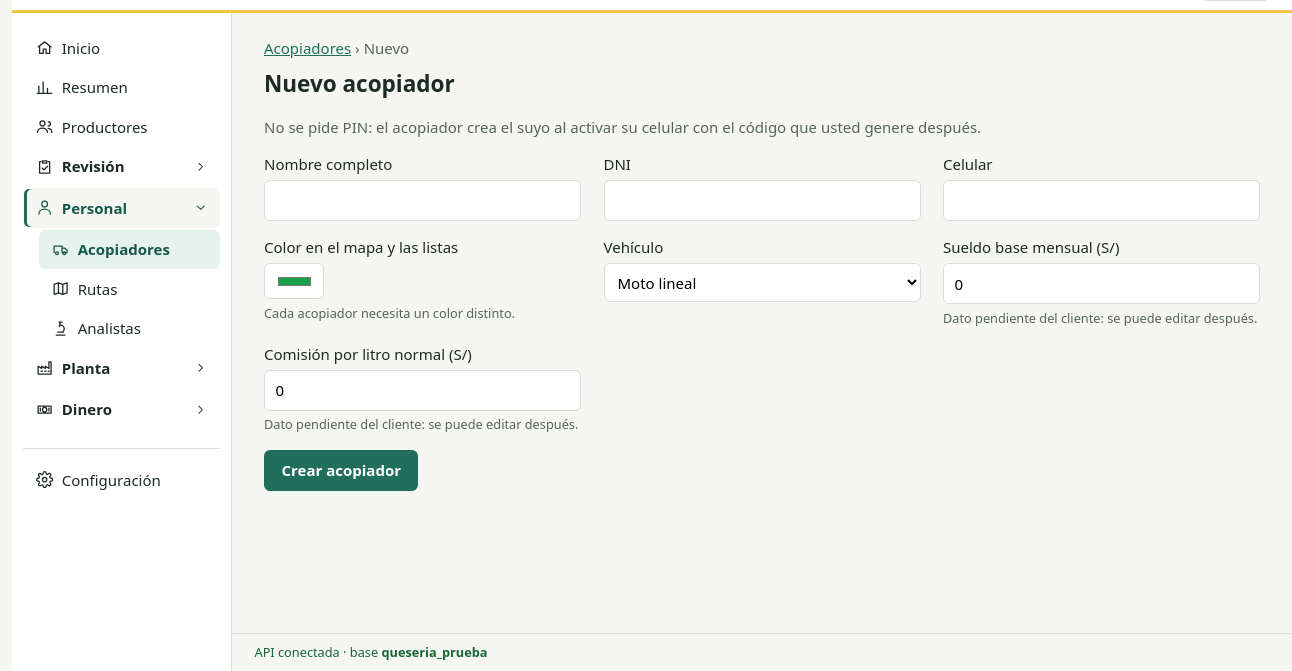
nuevo acopiador › 422 del servidor: el mensaje va bajo su campo
Type "Ana Quispe Flores" into the field labelled "Nombre completo" at (422, 201), box 264,180 -> 581,221
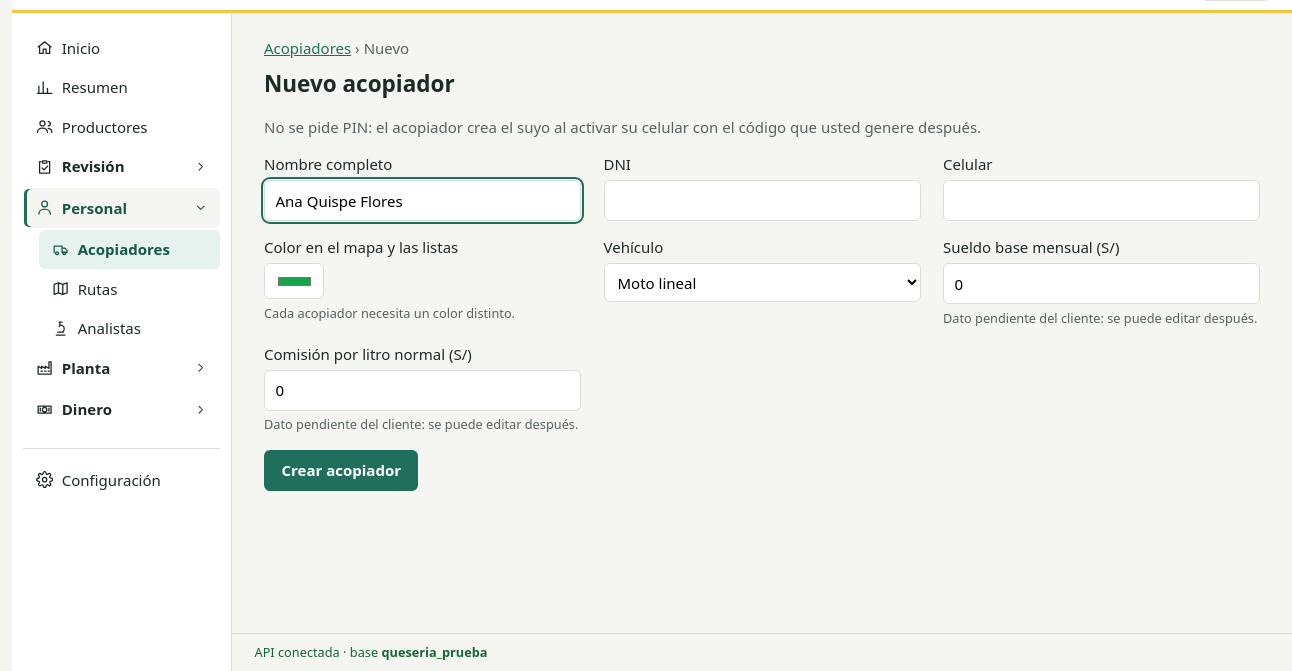
Type "45678912" into the field labelled "DNI" at (762, 201), box 604,180 -> 920,221
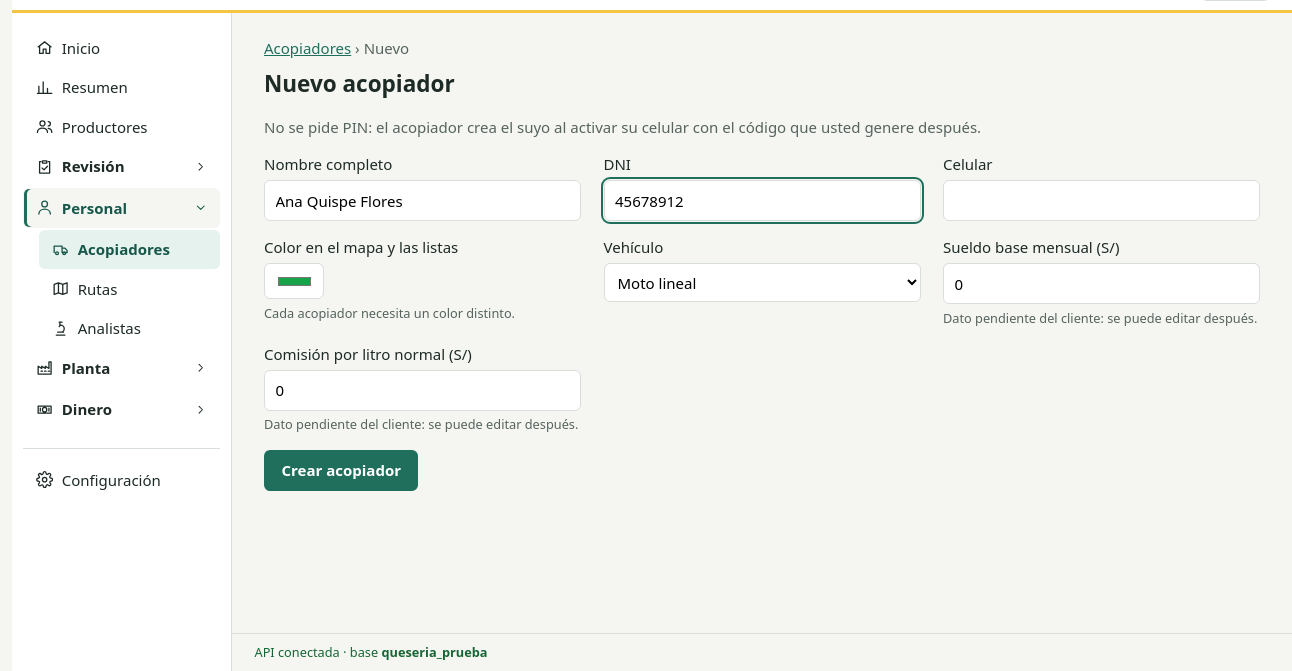
Type "987654321" into the field labelled "Celular" at (1102, 201), box 943,180 -> 1260,221
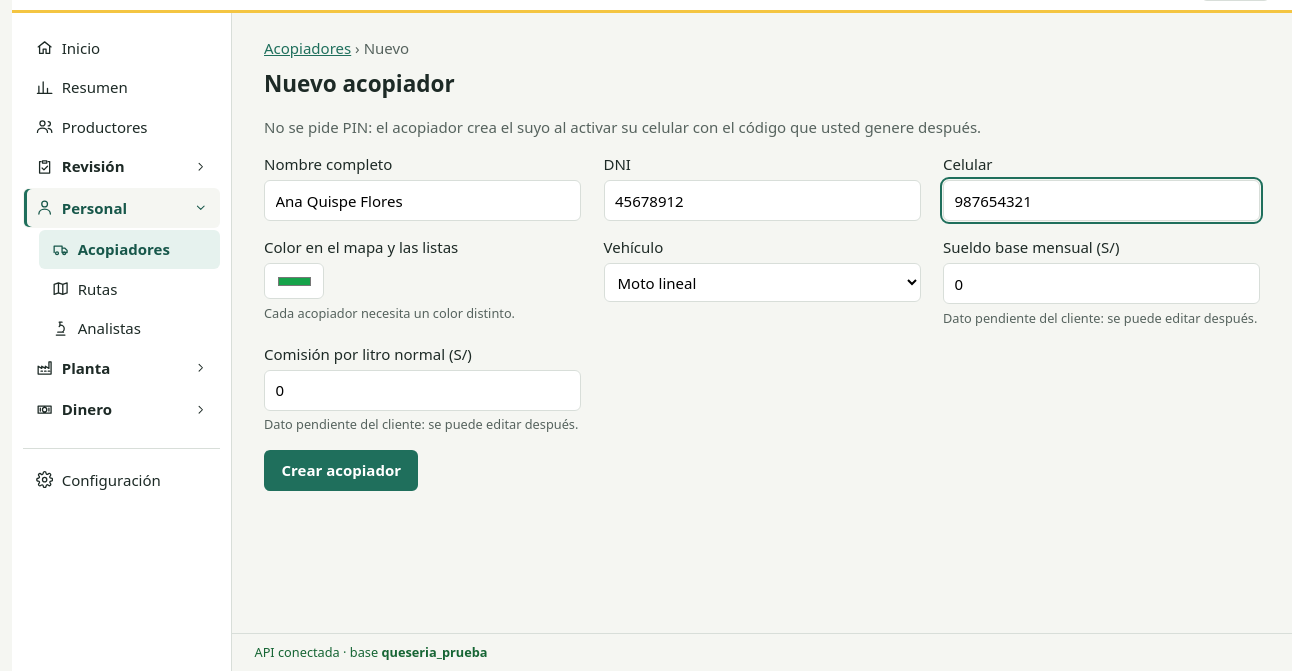
Click the button "Crear acopiador" at (341, 470), box 264,450 -> 418,490
(page scrolled)
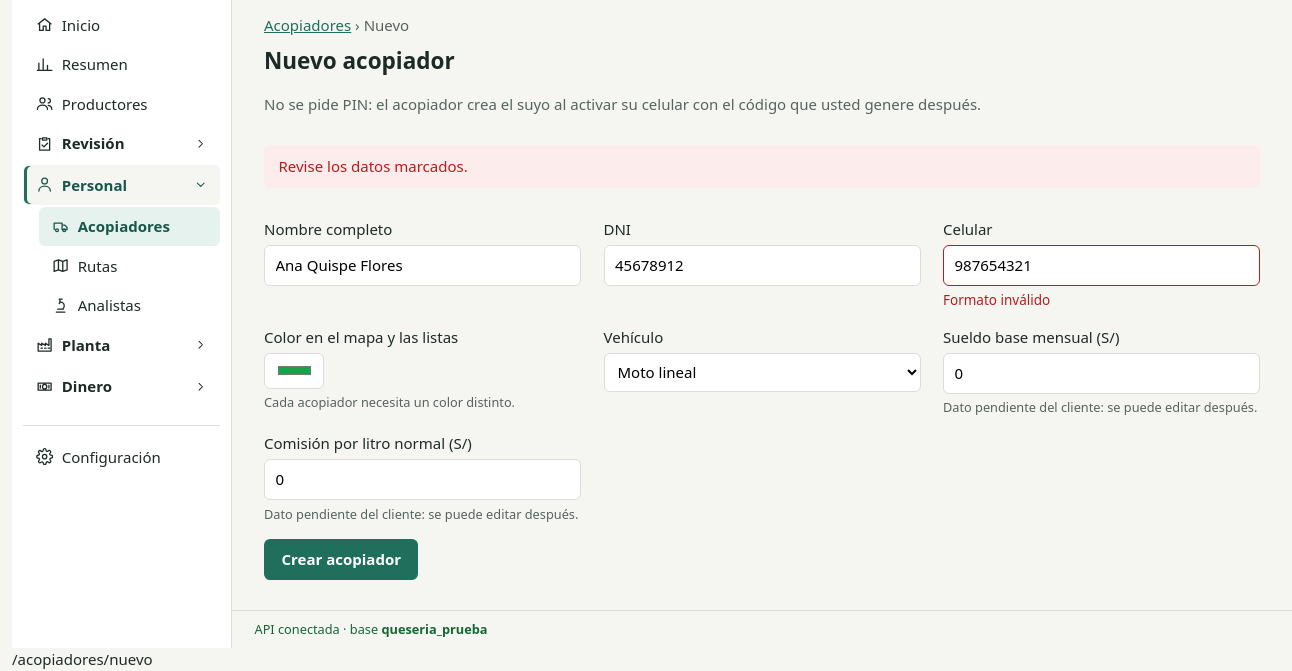
Expected: the text with test id "ubicacion" reads "/acopiadores/nuevo", 12,649 -> 153,669
Expected: the message reads "Revise los datos marcados.", 278,156 -> 468,176
